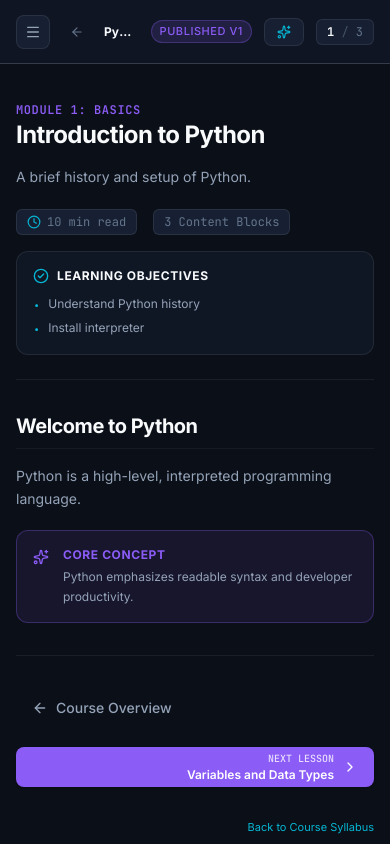
Test: LessonWorkspace Component › toggles mobile sidebar drawer when the sidebar toggle button is clicked
Expected: the heading "Introduction to Python" is shown, [16,120,265,149]
Step 1. Click the button named "open curriculum navigation" → point(33, 32), box [16,14,50,48]
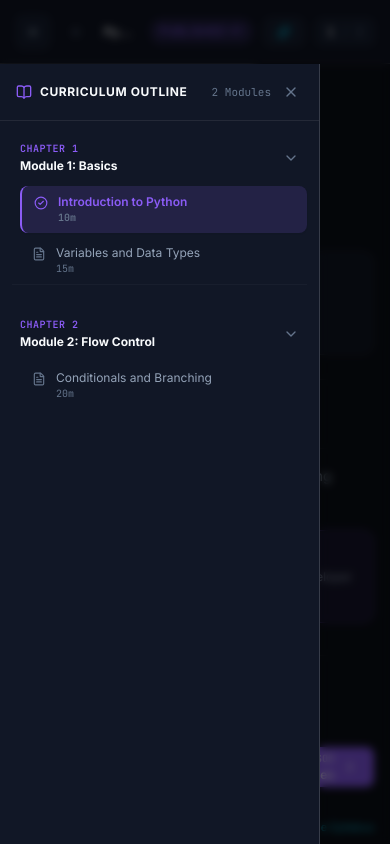
# Close button inside mobile drawer
Step 2. Click the button named "close curriculum outline" → point(291, 92), box [279,80,303,104]
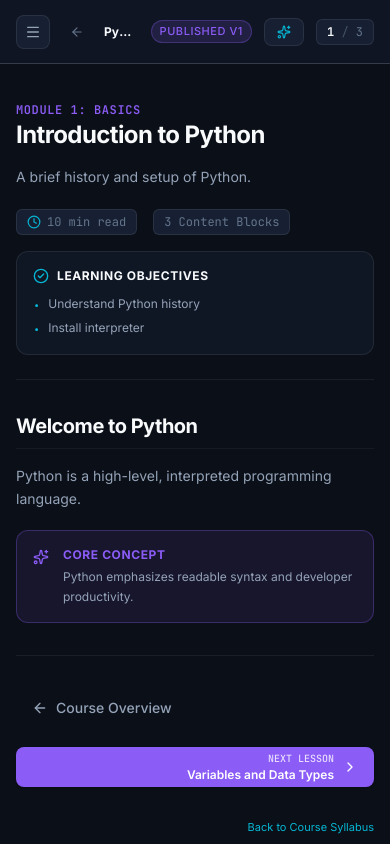
Expected: the button named "open curriculum navigation" is collapsed, [16,14,50,48]
